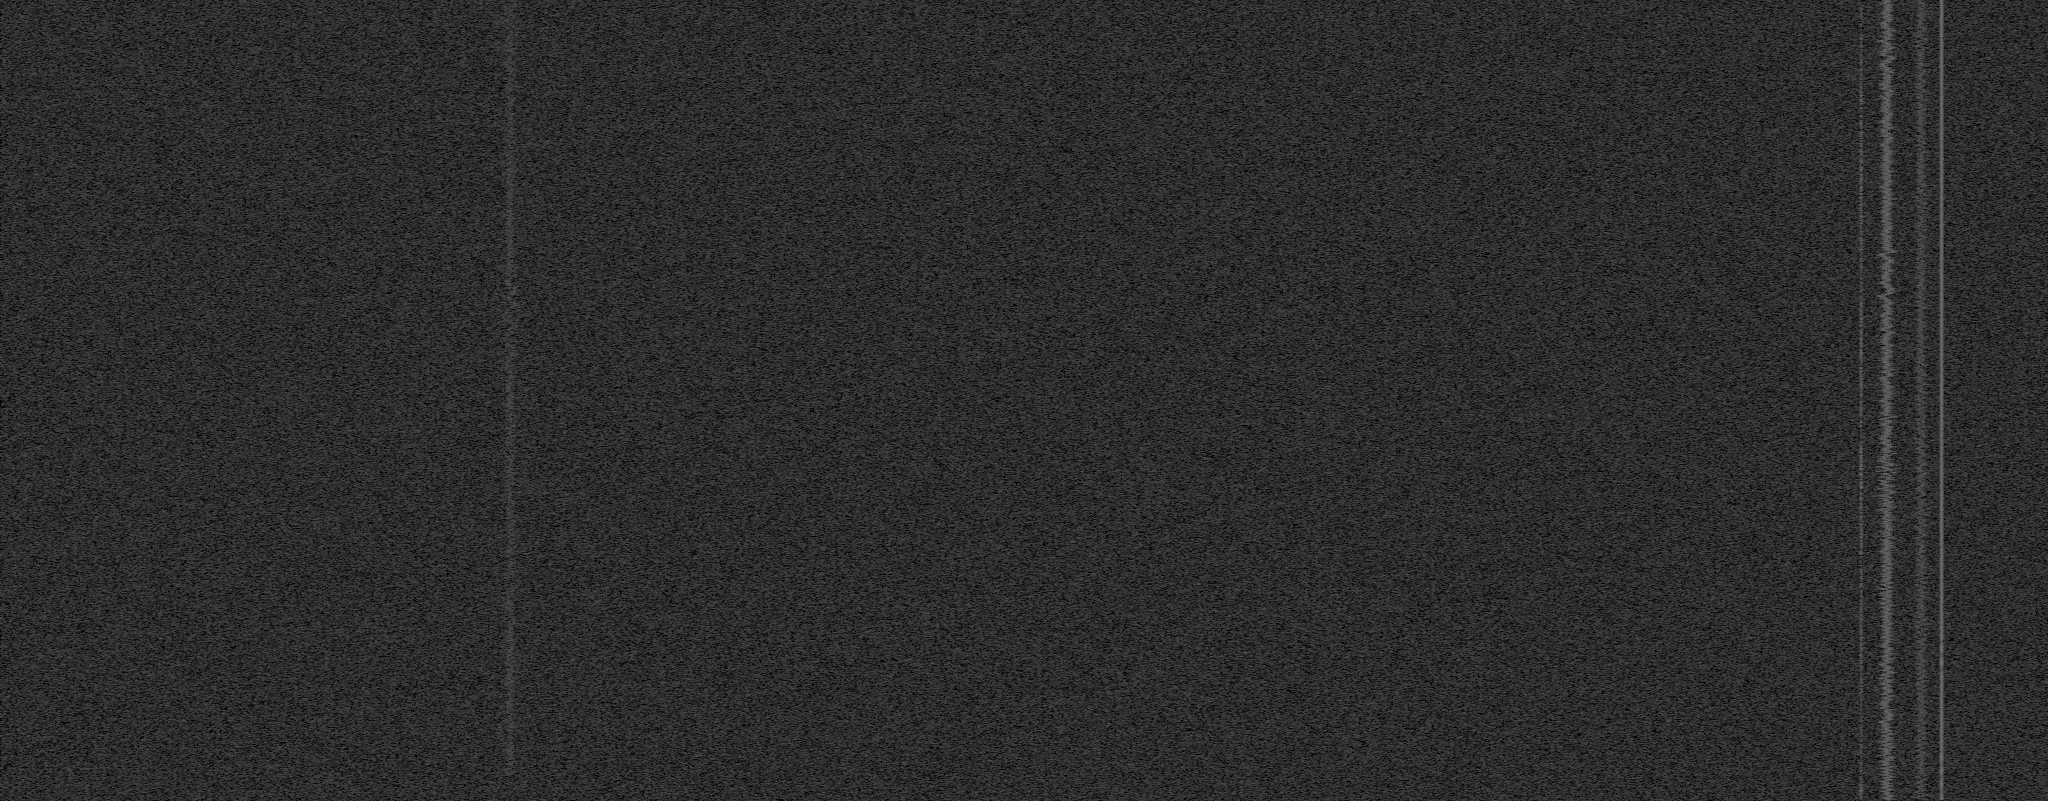wv_am: (1940, 0, 1945, 800)
wv_lsb: (1859, 5, 1864, 613), (1859, 614, 1864, 800)
wv_wbfm: (1874, 0, 1900, 800), (499, 0, 522, 775), (1910, 0, 1932, 800)
